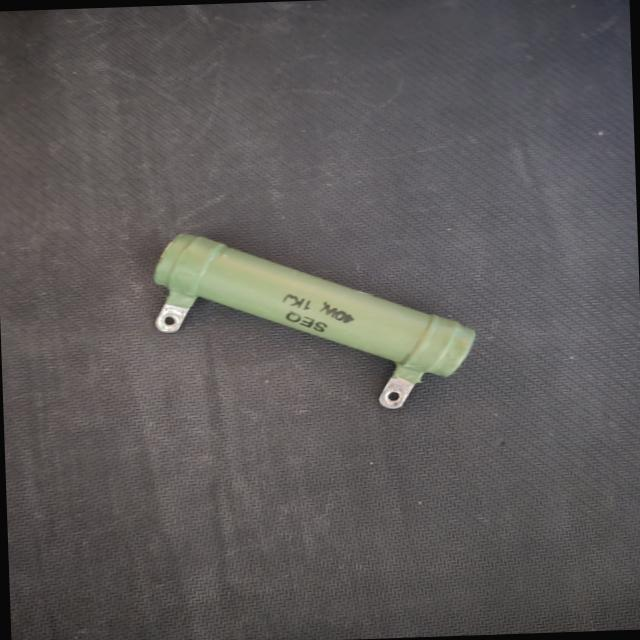resistor: (138, 212, 486, 425)
